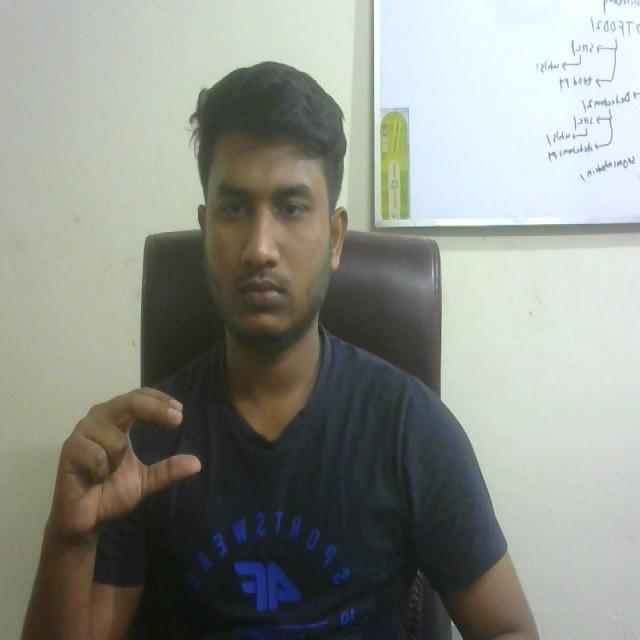D: (37, 359, 208, 561)
